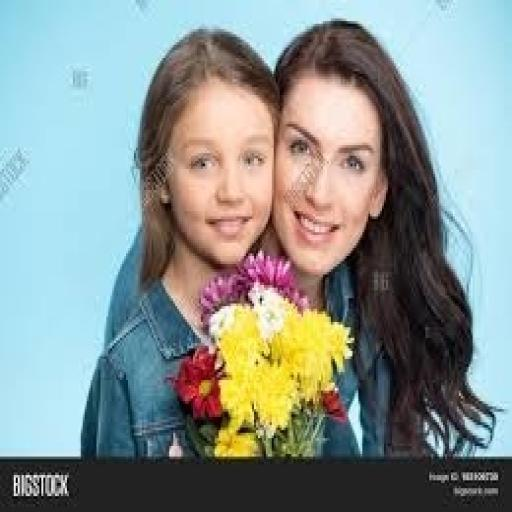hugging: (77, 16, 502, 462), (78, 24, 284, 462)
